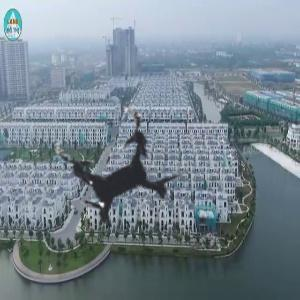drone: (15, 71, 221, 277)
